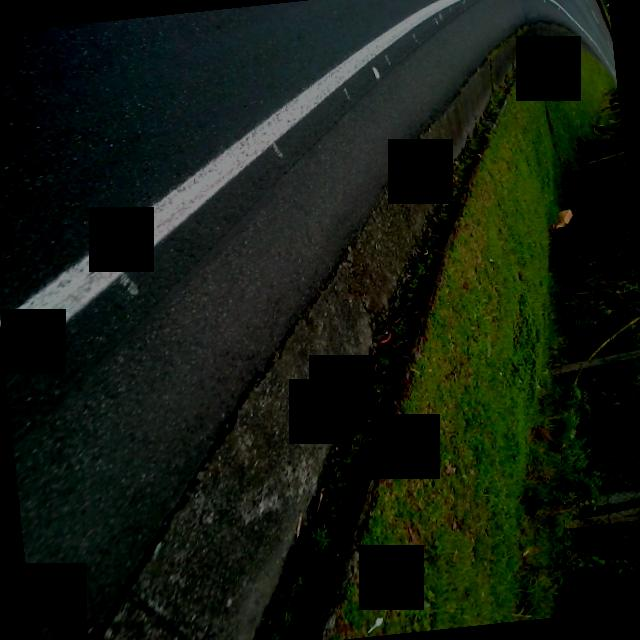DITCH: (0, 11, 640, 640), (0, 0, 550, 640)
